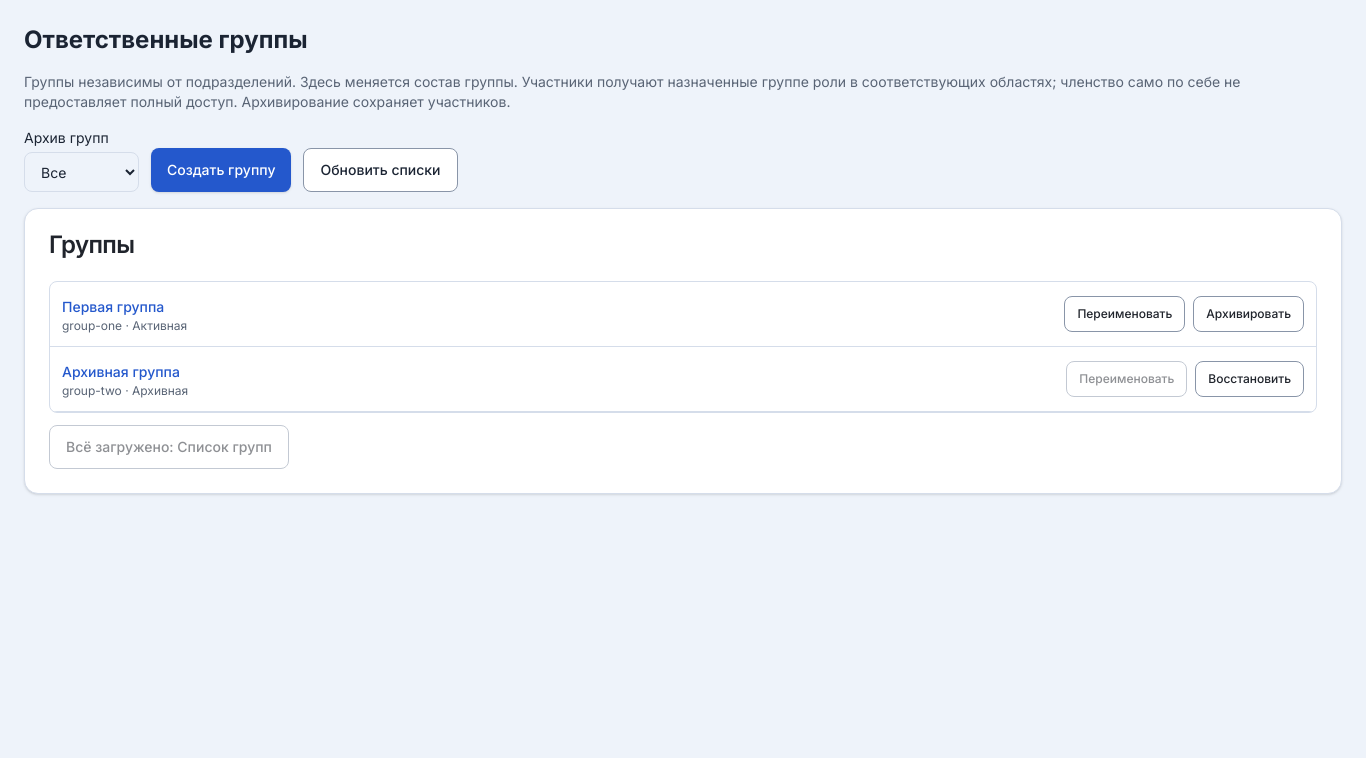
groups, members and people reads › survives StrictMode cleanup and loads bounded groups before secondary views
The image size is (1366, 758).
expect the button "Создать группу" is enabled: met, box [151,148,292,192]
Click the button "Первая группа" at coordinates (113, 307), box [62,297,164,317]
(page scrolled)
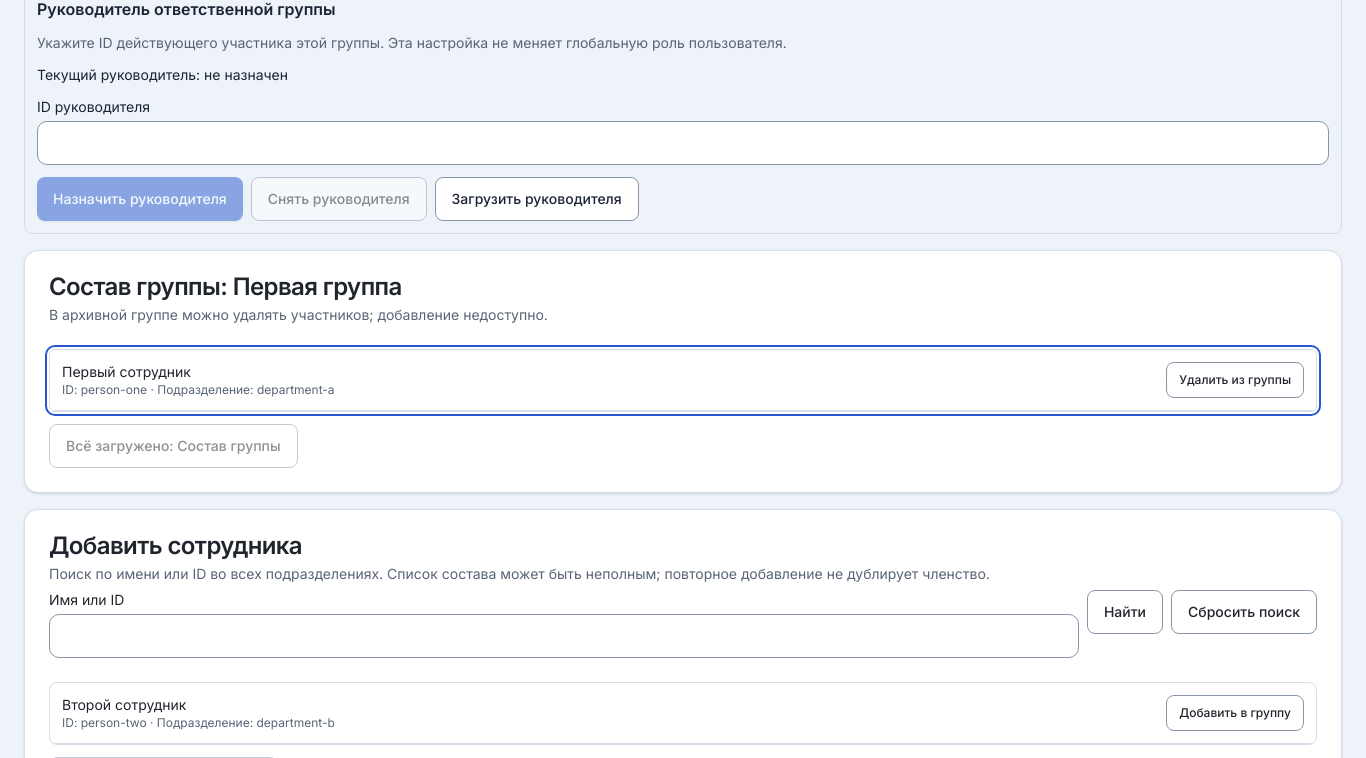
expect the button "Удалить из группы" is enabled: met, box [1166,362,1304,398]
expect the text "Второй сотрудник" is shown: met, box [62,696,186,713]
expect the text "ID: person-two · Подразделение: department-b" is shown: met, box [62,715,335,731]
